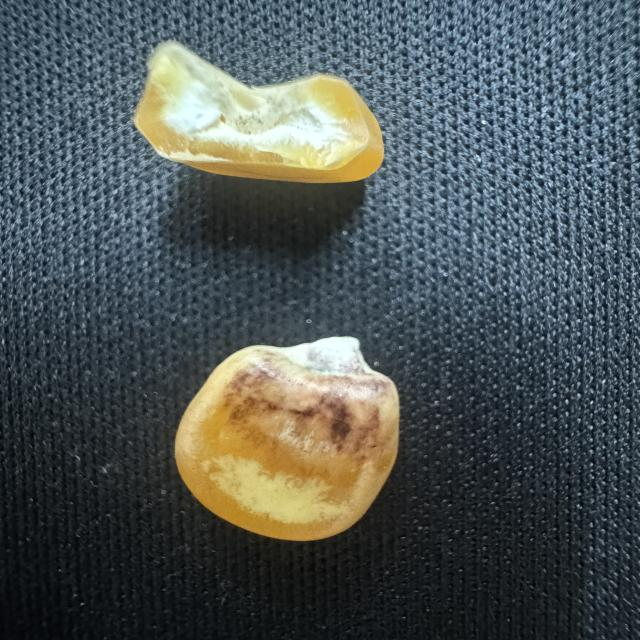Bad-Seed: (166, 333, 408, 545), (129, 36, 391, 190)
